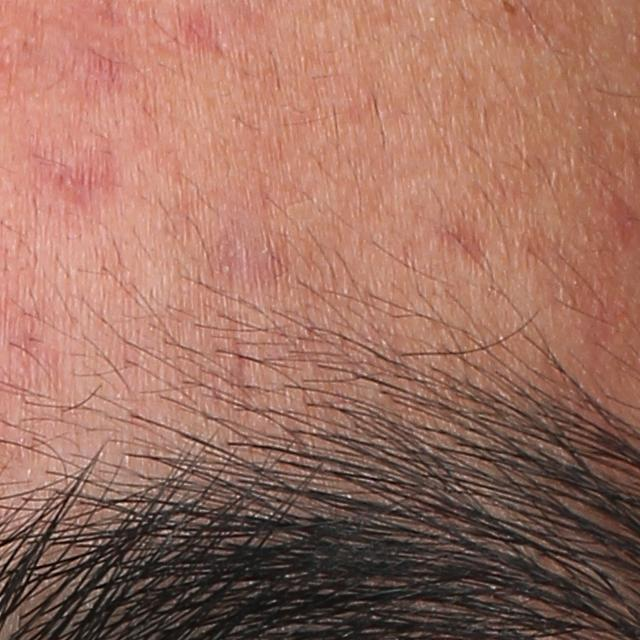atrophic_scar: (26, 140, 122, 207)
